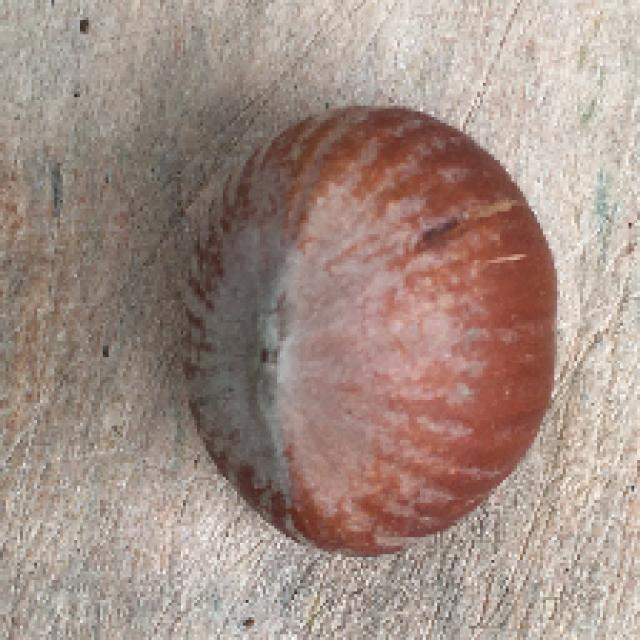qualityHazelnut: (176, 88, 561, 575)
